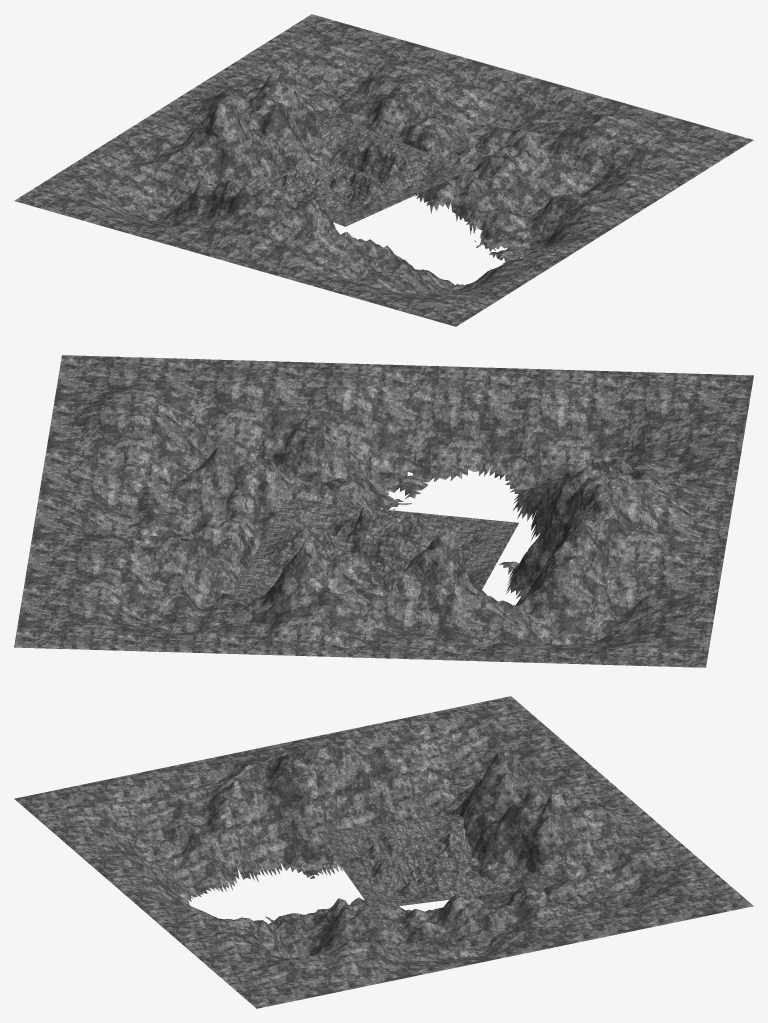
3 views of the same model, one above another, from view 1: azimuth 30°, elevation 25°; view 2: azimuth 150°, elevation 25°; view 3: azimuth 270°, elevation 25° (orthographic). The views are drawn at different scales.
Visible parts, largest first — view 1: Landscape.001, Landscape.002; view 2: Landscape.001, Landscape.002; view 3: Landscape.001, Landscape.002.
Boxes of the visible parts, x1,y1,x2,y2 form: Landscape.001: [14, 14, 753, 326]; Landscape.002: [241, 117, 470, 226]; Landscape.001: [14, 355, 753, 667]; Landscape.002: [232, 499, 518, 600]; Landscape.001: [14, 696, 753, 1008]; Landscape.002: [316, 814, 553, 909].
Size of the model in its own units: 2843 by 468 by 2843.
Materials: 3 (2 with a texture image).
